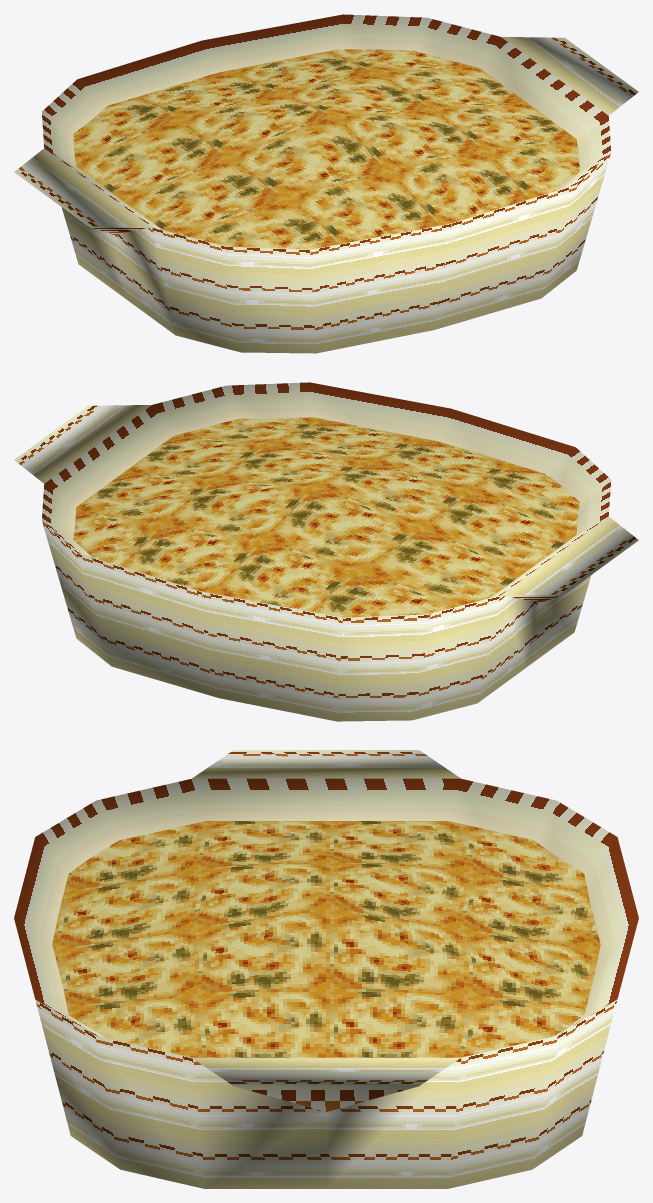
Rendered from 5508u_grtn00_d.gltf.
3 renders of one model, top to bottom at view 1: azimuth 30°, elevation 25°; view 2: azimuth 150°, elevation 25°; view 3: azimuth 270°, elevation 25°, orthographic. The views are drawn at different scales.
Visible parts, largest first — view 1: 5508u_grtn00_d; view 2: 5508u_grtn00_d; view 3: 5508u_grtn00_d.
Boxes of the visible parts, bbox=[...] form: 5508u_grtn00_d: bbox=[14, 14, 638, 353]; 5508u_grtn00_d: bbox=[14, 382, 638, 721]; 5508u_grtn00_d: bbox=[14, 750, 638, 1188].
Size of the model in its own units: 0.7324 by 0.168 by 0.5752.
2 materials, 2 textured.
